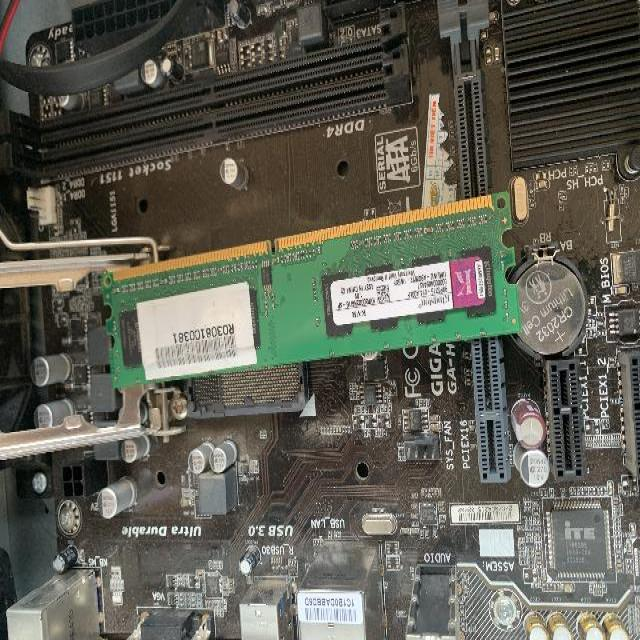Mainboard: (1, 0, 640, 639)
RAM: (99, 188, 520, 388)
